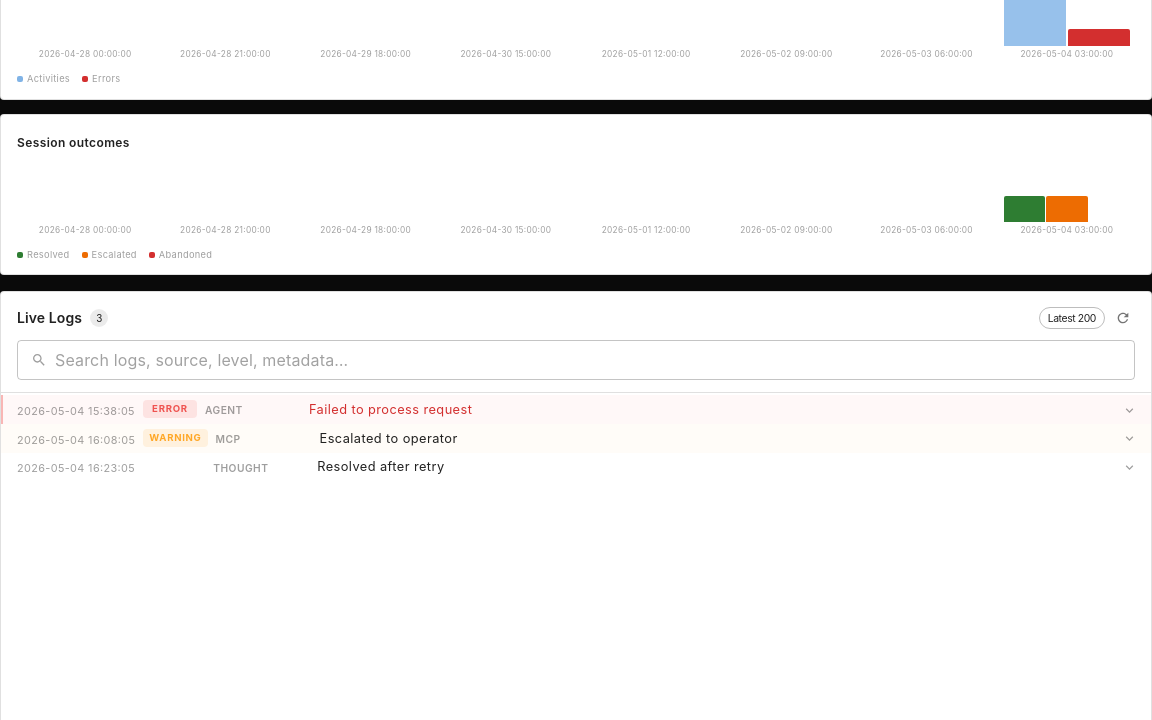
AgentDashboard › search field filters log stream
(page scrolled)
Expected: the text "Failed to process request" is shown, [309, 402, 472, 417]
Type "retry" into the field with placeholder "Search logs, source, level, metadata…" at (595, 360), box [55, 340, 1135, 380]
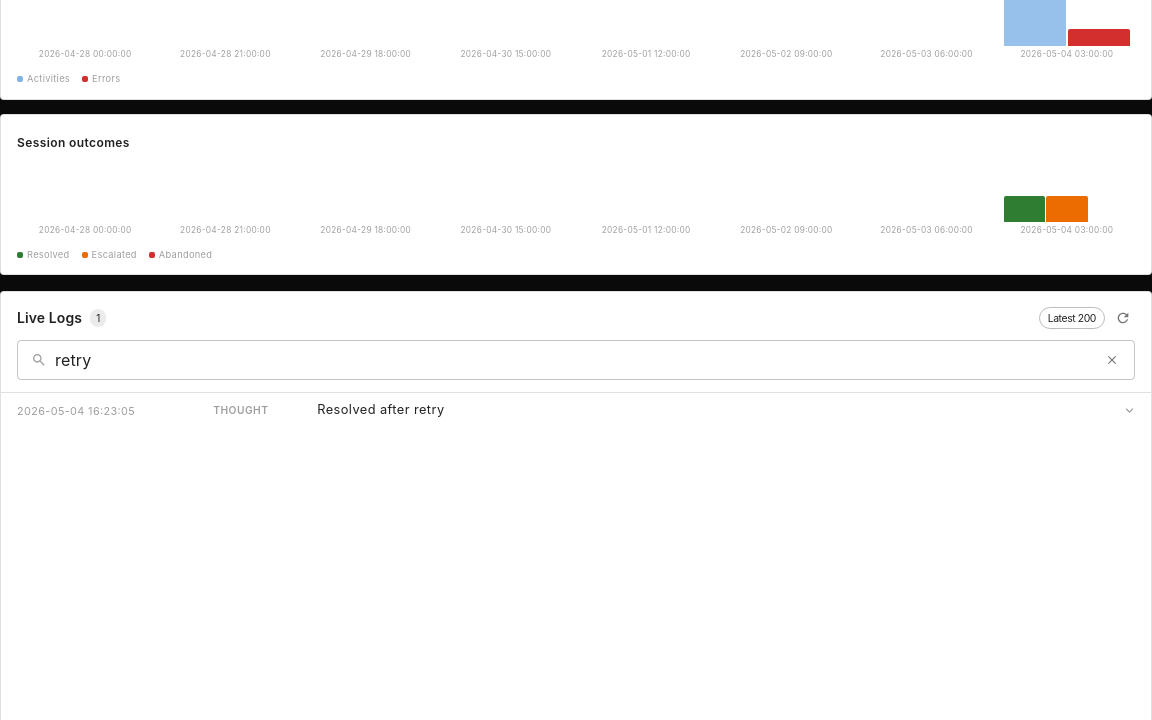
Expected: the text "Resolved after retry" is shown, [317, 402, 445, 417]
Expected: the text "Failed to process request" is gone
